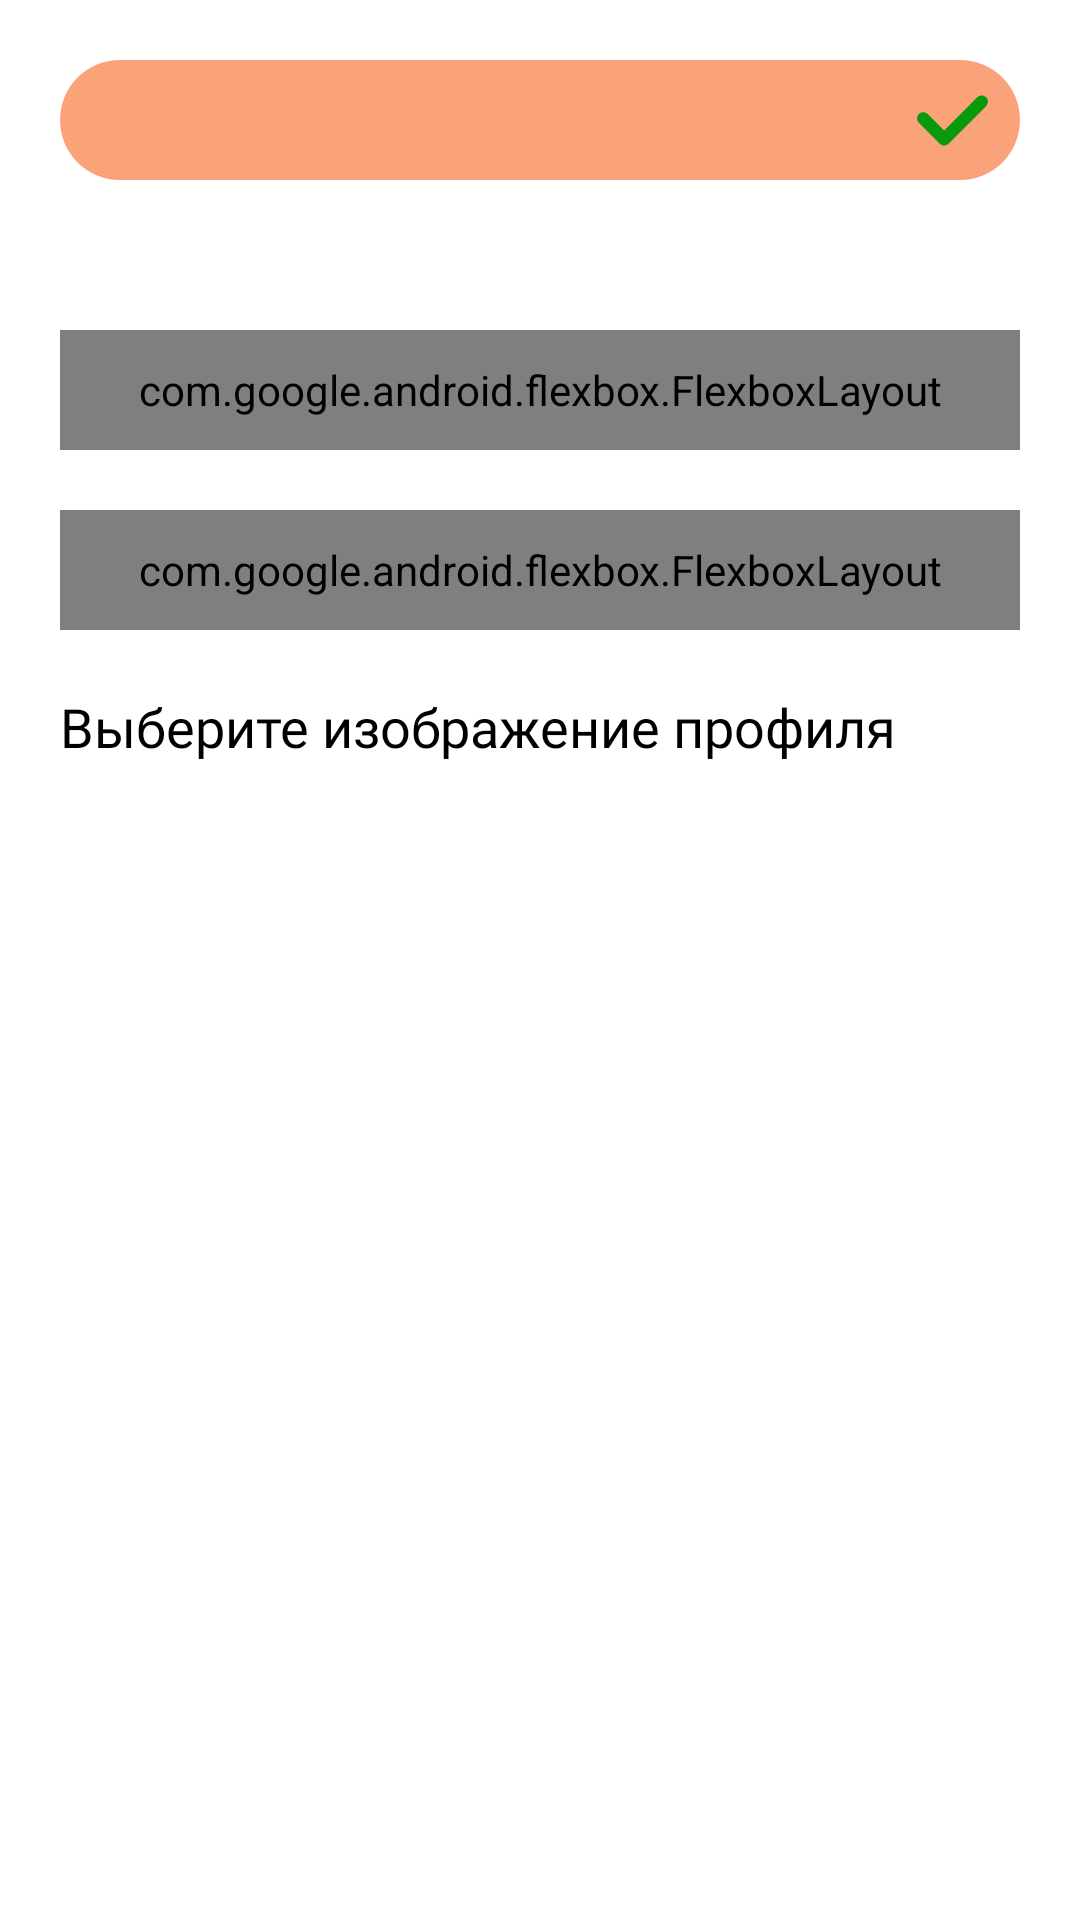

Icons on this 1080 × 1920 Android screen, each with the point to tap as (x=x, y=y):
checkmark: (x=952, y=120)
